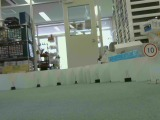speed_10: (143, 43, 158, 58)
